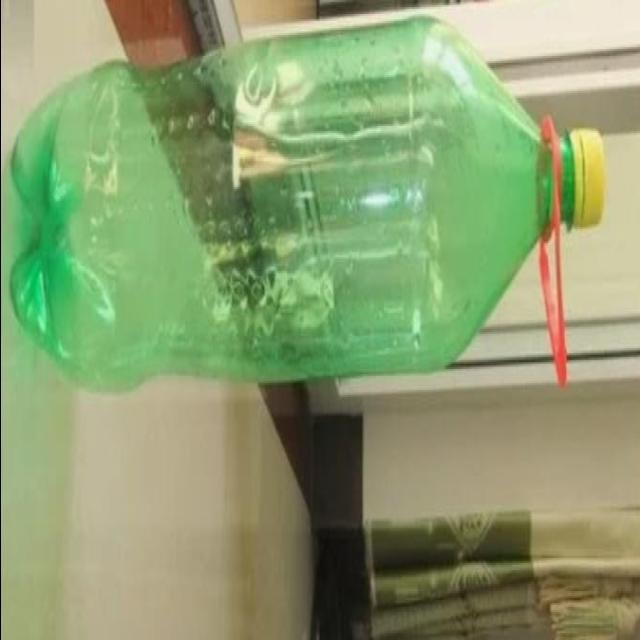-Recyclables - plastic bottle-: (12, 11, 601, 394)
